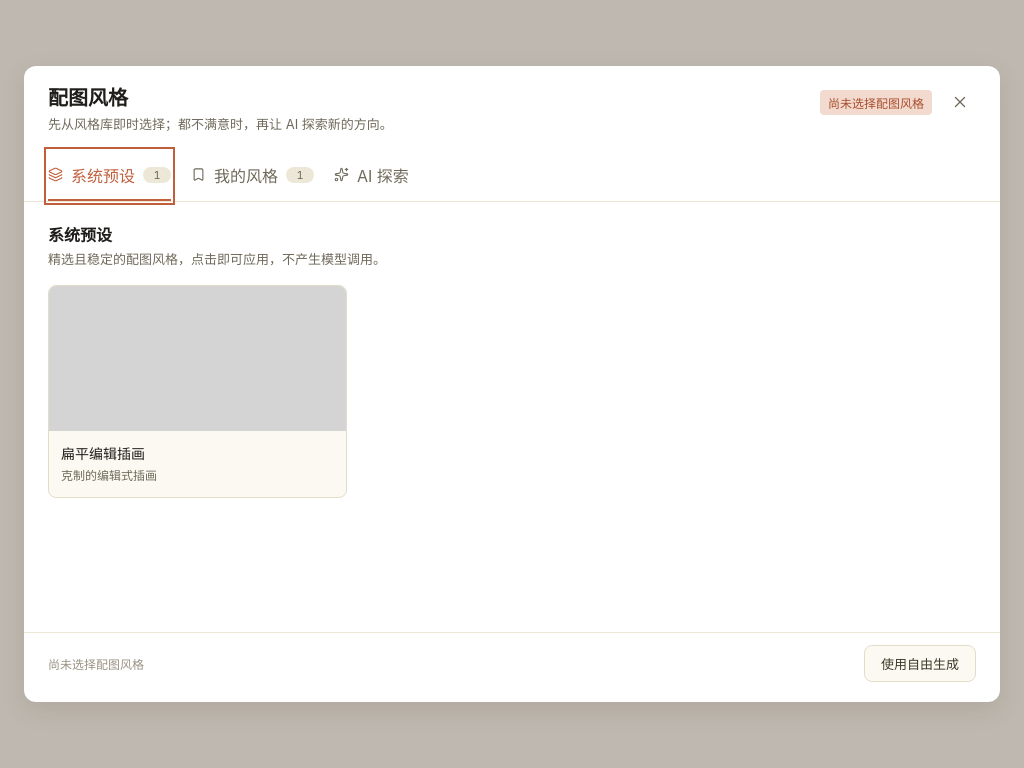
Scenario: ImageStyleLibraryModal › 切换到我的风格后渲染个人卡片与管理按钮
Click the tab "我的风格 1": {"x": 252, "y": 176} [191,151,314,201]
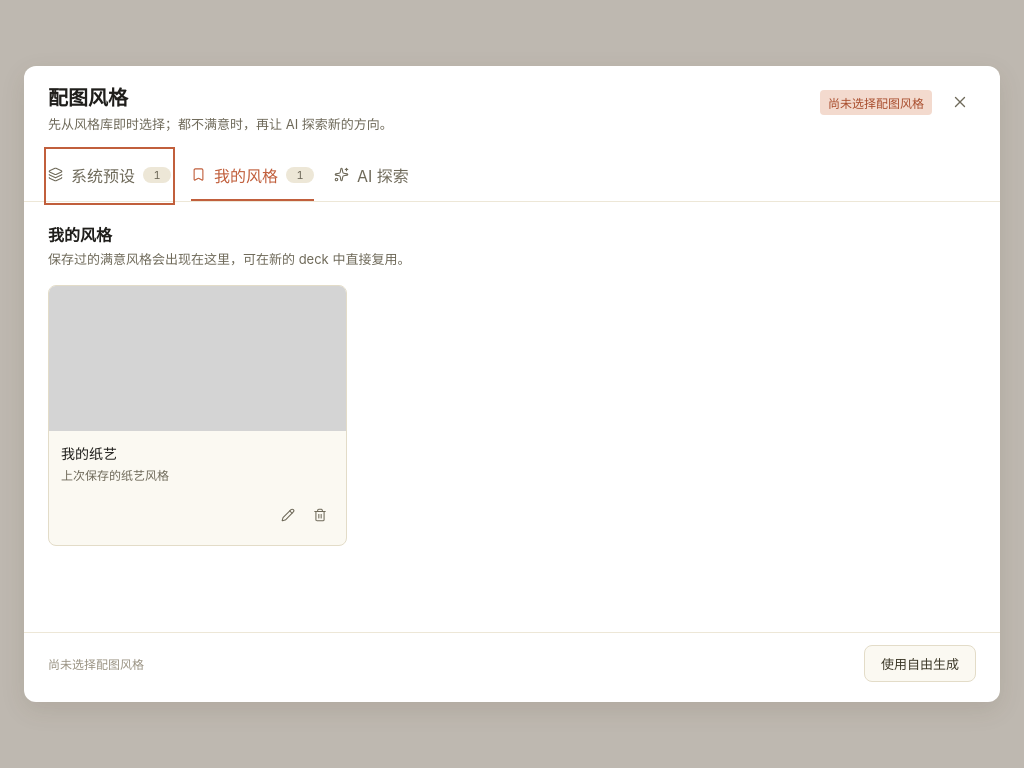
Result: the button named "重命名风格" is shown at [274,501,302,529]
Result: the button named "删除风格" is shown at [306,501,334,529]
